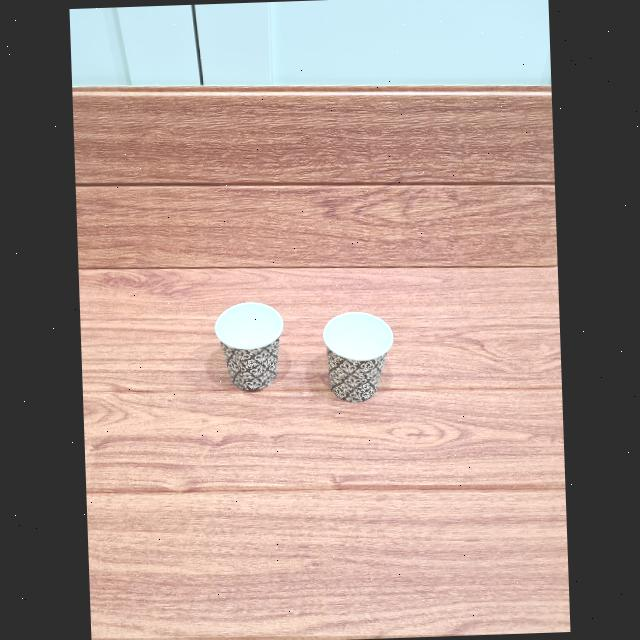trash: (316, 308, 398, 401), (211, 304, 289, 393)
